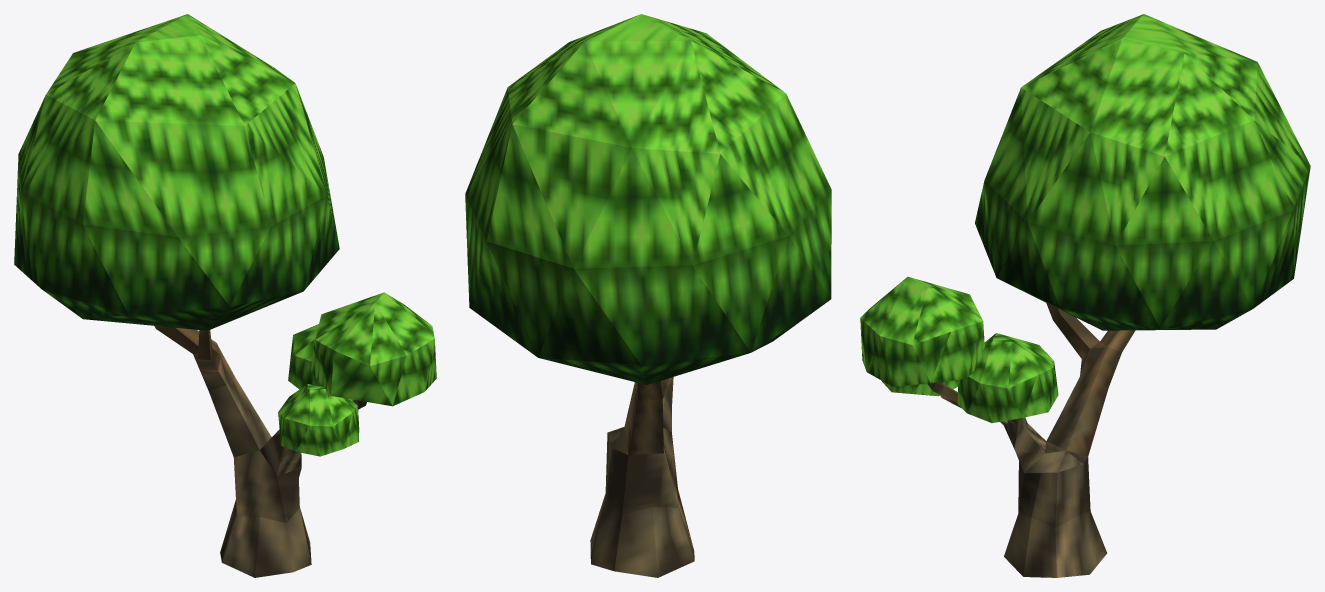
Rendered from Poly_Tree_02_D.obj.
The picture shows the model from 3 angles, left to right: view 1: azimuth 30°, elevation 25°; view 2: azimuth 150°, elevation 25°; view 3: azimuth 270°, elevation 25°; orthographic projection. The views are drawn at different scales.
Visible parts, largest first — view 1: Icosphere.001, Plane, Icosphere.003, Icosphere.002, Icosphere.004; view 2: Icosphere.001, Plane; view 3: Icosphere.001, Plane, Icosphere.003, Icosphere.004.
Boxes of the visible parts, <box> form: Icosphere.001: <box>14,14,339,330</box>; Plane: <box>154,325,366,577</box>; Icosphere.003: <box>310,292,436,406</box>; Icosphere.002: <box>278,384,359,456</box>; Icosphere.004: <box>288,324,353,400</box>; Icosphere.001: <box>465,14,831,384</box>; Plane: <box>590,377,694,577</box>; Icosphere.001: <box>975,14,1310,330</box>; Plane: <box>927,303,1135,577</box>; Icosphere.003: <box>860,276,984,386</box>; Icosphere.004: <box>957,333,1058,422</box>.
Size of the model in its own units: 2.24 by 3.74 by 3.
1 material, 1 textured.
